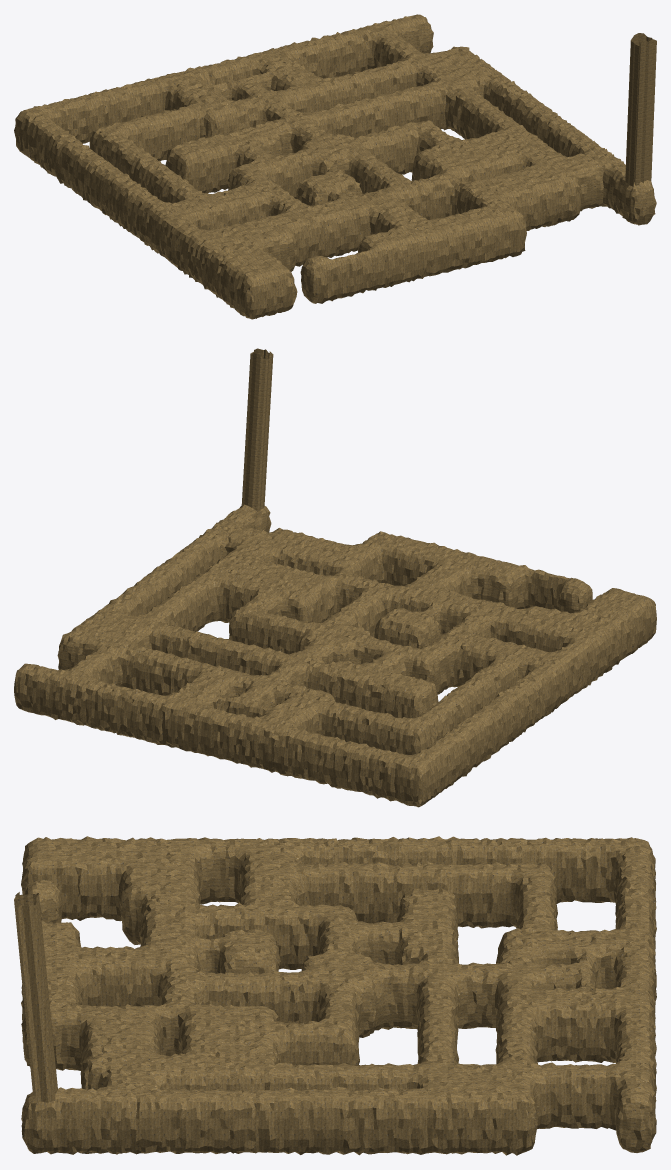
The model's file is cave ELITE.fbx.
3 views of the same model, one above another, from view 1: azimuth 30°, elevation 25°; view 2: azimuth 150°, elevation 25°; view 3: azimuth 270°, elevation 25° (orthographic). The views are drawn at different scales.
Visible parts, largest first — view 1: Plane.001, Plane.002; view 2: Plane.001, Plane.002; view 3: Plane.001, Plane.002.
Boxes of the visible parts, left/top/right/bottom form: Plane.001: left=14, top=14, right=656, bottom=309; Plane.002: left=15, top=33, right=656, bottom=319; Plane.001: left=14, top=348, right=656, bottom=804; Plane.002: left=15, top=512, right=656, bottom=807; Plane.001: left=14, top=836, right=656, bottom=1149; Plane.002: left=21, top=858, right=656, bottom=1155.
Size of the model in its own units: 201 by 89.78 by 203.
